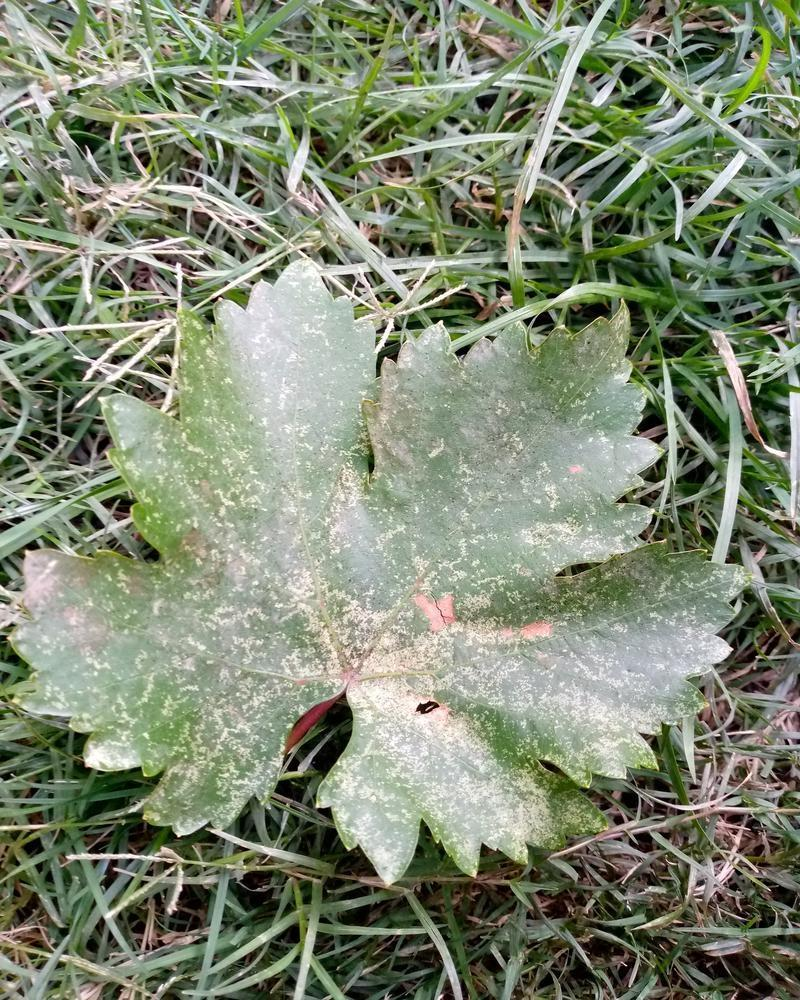Powdery-Mildew: (444, 316, 655, 567), (296, 578, 572, 748), (147, 547, 311, 801), (552, 595, 739, 786), (317, 759, 548, 889), (264, 394, 382, 559), (218, 266, 374, 387), (24, 552, 132, 679), (149, 435, 266, 529)
